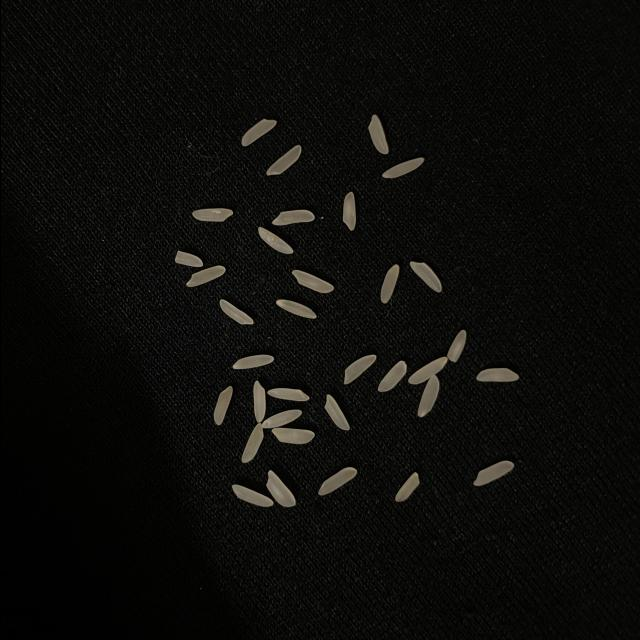Broken: (446, 330, 466, 364), (173, 250, 201, 266)
Full: (264, 145, 302, 177), (316, 466, 356, 496), (407, 356, 447, 386), (265, 470, 295, 508), (342, 354, 376, 386), (472, 461, 514, 486), (231, 483, 273, 508), (381, 157, 425, 180), (240, 119, 276, 147), (258, 227, 294, 255), (290, 270, 332, 294), (376, 361, 406, 393), (409, 262, 441, 292), (218, 299, 254, 325), (416, 374, 438, 416), (324, 394, 349, 430), (240, 423, 262, 463), (366, 114, 388, 154), (212, 385, 232, 425), (261, 410, 301, 430), (187, 267, 226, 287), (275, 300, 315, 319), (394, 472, 419, 502), (380, 264, 398, 304), (269, 210, 313, 226), (271, 428, 313, 443), (475, 368, 519, 382), (266, 388, 310, 402), (230, 355, 272, 369), (190, 208, 232, 222), (252, 380, 265, 422), (342, 192, 355, 230)
